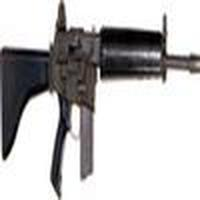gun: (1, 23, 199, 184)
